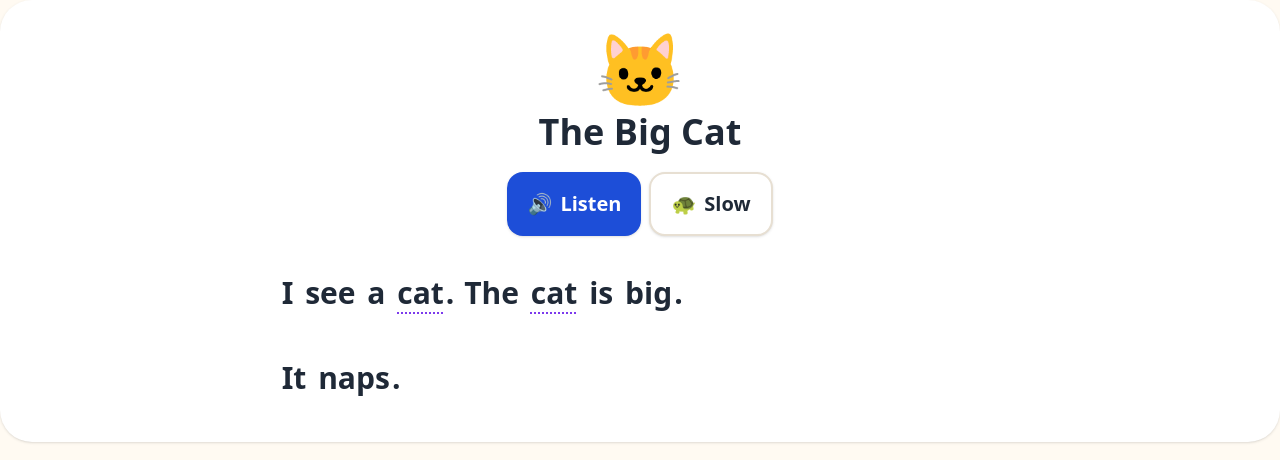
Test case: PassageView › Start again restarts from the first sentence; the older reading cannot reset it
Click the button "🔊 Listen": [574, 204] box [507,172,641,236]
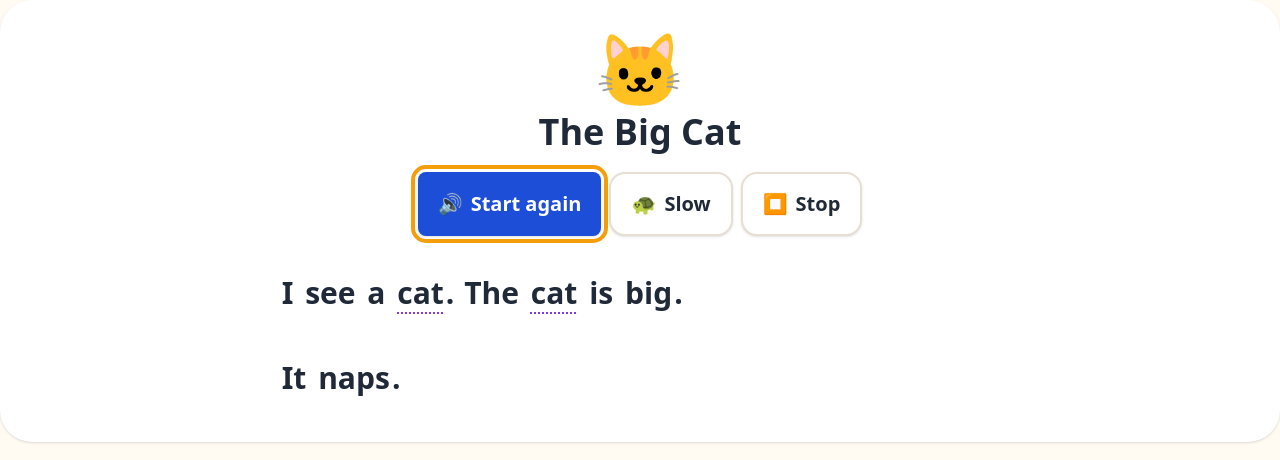
Click the button "🔊 Start again": [510, 204] box [418,172,602,236]
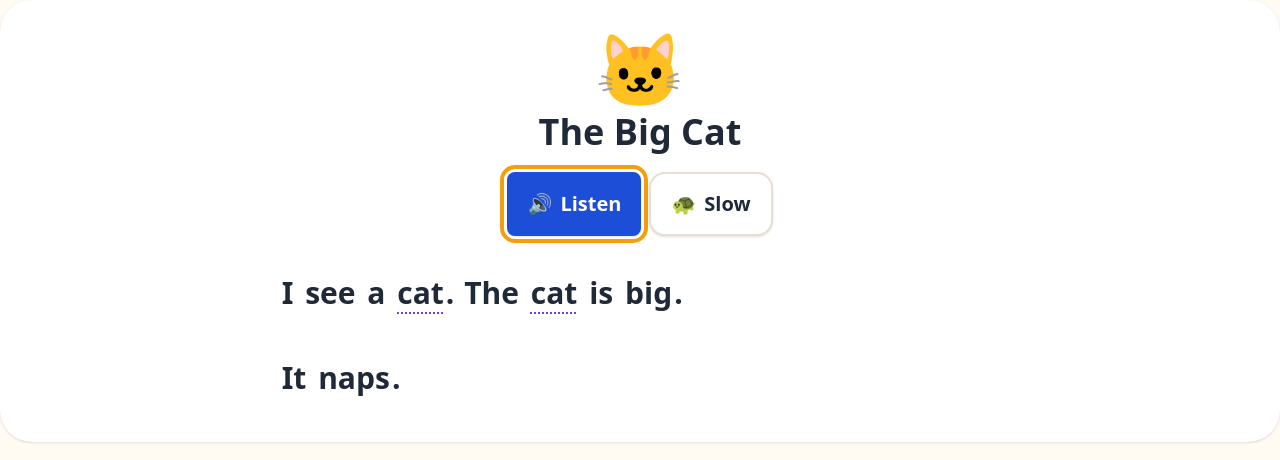
expect the button "🔊 Listen" is shown: met, box [507,172,641,236]
